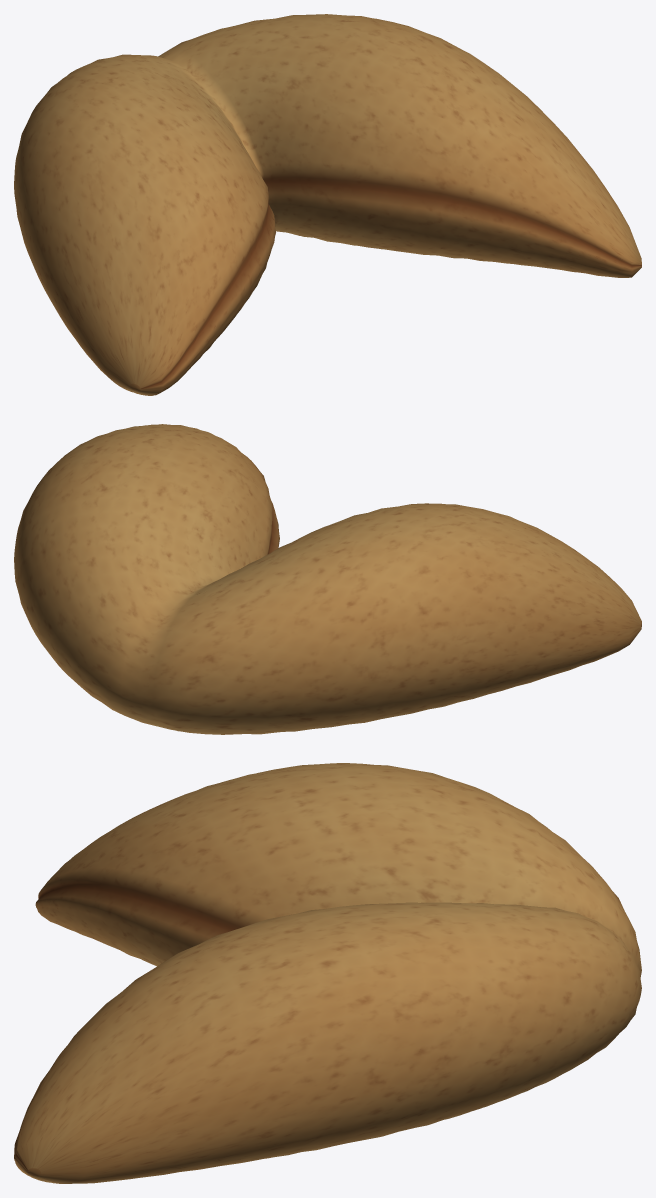
The model's file is fortune-cookie-whole.glb.
3 views of the same model, one above another, from view 1: azimuth 30°, elevation 25°; view 2: azimuth 150°, elevation 25°; view 3: azimuth 270°, elevation 25° (orthographic). The views are drawn at different scales.
Visible parts, largest first — view 1: CookieShell; view 2: CookieShell; view 3: CookieShell.
Part boxes in pixels (x1,y1,x2,y2): CookieShell: (14,14,641,395); CookieShell: (14,424,641,734); CookieShell: (14,763,641,1183).
Size of the model in its own units: 2.67 by 0.8897 by 2.37.
1 material, 1 textured.
